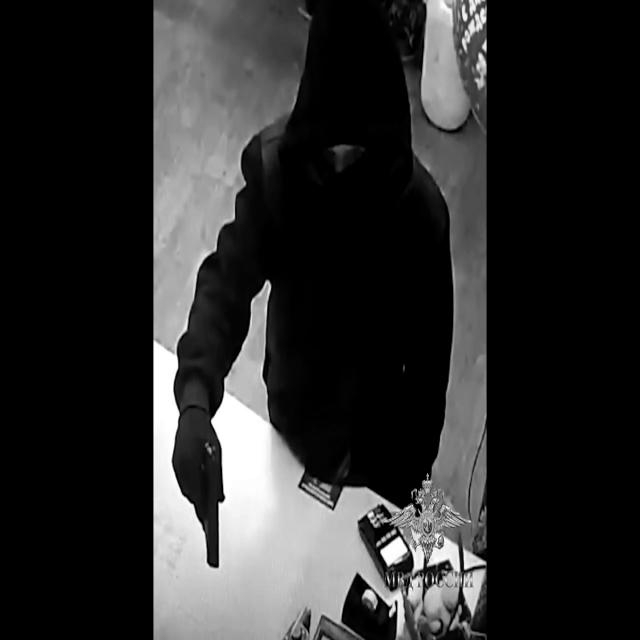gun: (171, 400, 227, 566)
person with a gun: (177, 2, 454, 569)
